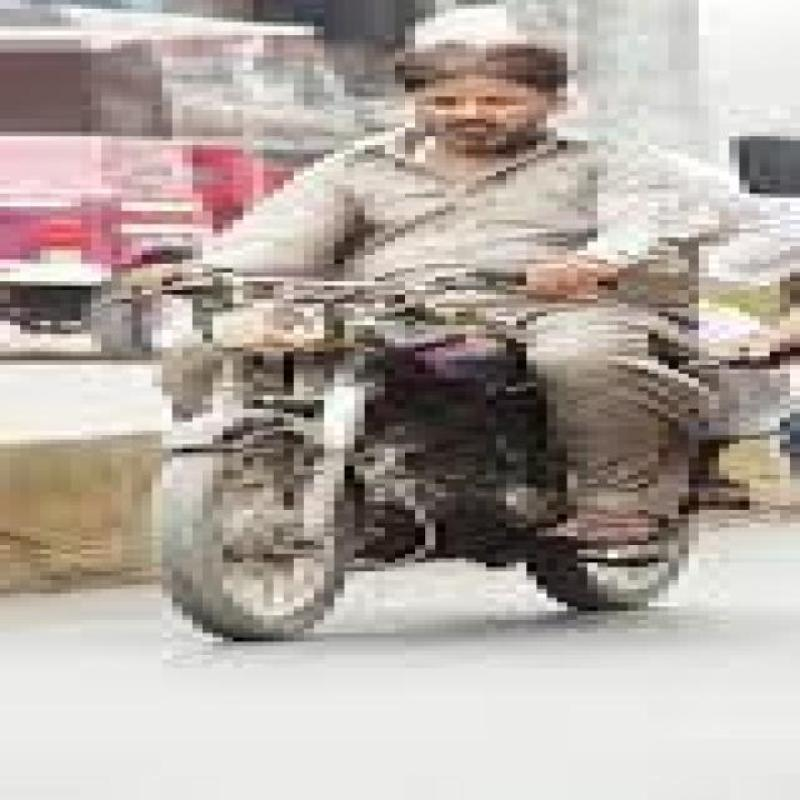nohelmet: (377, 34, 605, 157)
